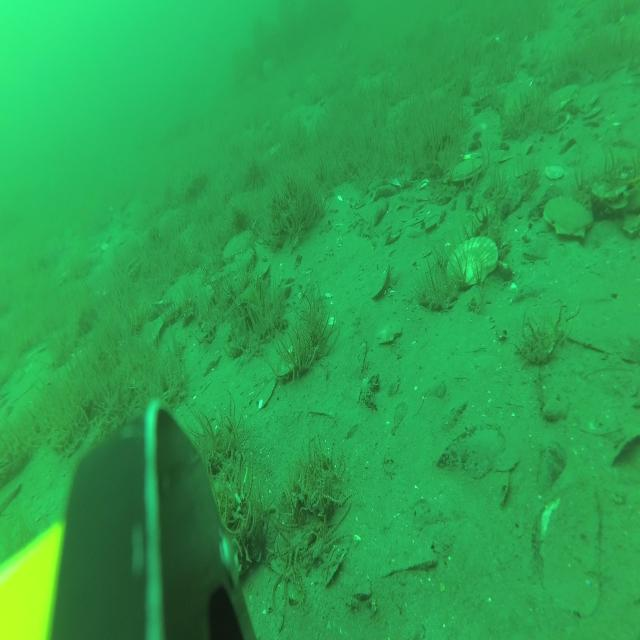scallop: (444, 230, 500, 292), (542, 194, 596, 242), (447, 152, 486, 184), (545, 81, 581, 115), (223, 227, 256, 263), (375, 318, 404, 349)
